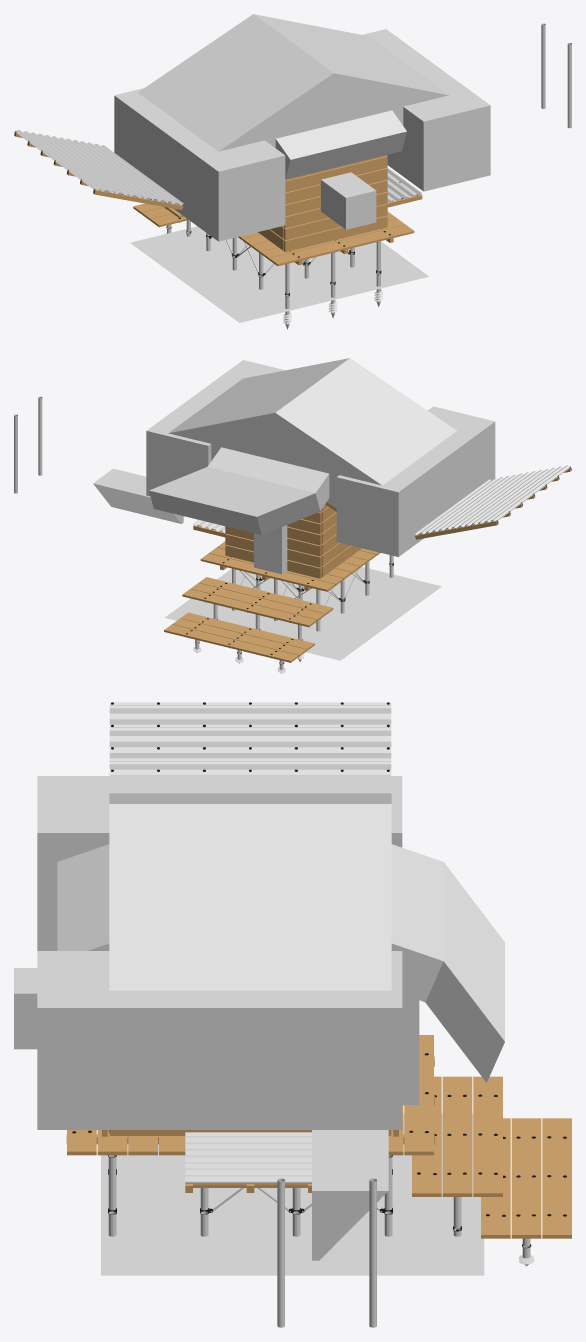
The model's file is lamatwofinal.fbx.
The picture shows the model from 3 angles, top to bottom: view 1: azimuth 30°, elevation 25°; view 2: azimuth 150°, elevation 25°; view 3: azimuth 270°, elevation 25°; orthographic projection. The views are drawn at different scales.
Parts seen in each view (by area): view 1: Cube.001, Cube.006, floor, Cube, sideplanks.001, screws.005, Cube.003, floorboards, screw pile, Circle.006, Plane.001, floorboards.002; view 2: Cube.001, Cube.006, Cube, floor, screws.005, floorboards.002, floorboards.001, sideplanks.001, floorboards, Cube.004, Cube.003, sideplanks (+3 smaller); view 3: Cube.006, Cube.001, floor, Cube, screws.005, floorboards.002, floorboards.001, Cube.004, Plane.001, floorboards, Cube.003, Circle.006 (+2 smaller).
Part boxes in pixels (<box>): Cube.001: <box>138,14,448,151</box>; Cube.006: <box>114,29,490,241</box>; floor: <box>130,226,428,322</box>; Cube: <box>275,110,406,179</box>; sideplanks.001: <box>283,154,387,252</box>; screws.005: <box>14,129,183,209</box>; Cube.003: <box>320,172,376,229</box>; floorboards: <box>238,211,414,266</box>; screw pile: <box>206,233,382,329</box>; Circle.006: <box>541,23,571,128</box>; Plane.001: <box>387,167,421,203</box>; floorboards.002: <box>133,203,186,227</box>; Cube.001: <box>168,358,456,508</box>; Cube.006: <box>146,360,495,556</box>; Cube: <box>149,447,329,534</box>; floor: <box>164,567,441,660</box>; screws.005: <box>414,465,571,539</box>; floorboards.002: <box>164,612,314,662</box>; floorboards.001: <box>182,577,333,627</box>; sideplanks.001: <box>225,510,321,578</box>; floorboards: <box>200,541,380,591</box>; Cube.004: <box>93,468,183,523</box>; Cube.003: <box>254,525,287,574</box>; sideplanks: <box>321,504,361,577</box>; Cube.006: <box>37,776,402,1129</box>; Cube.001: <box>109,793,391,990</box>; floor: <box>101,1113,484,1275</box>; Cube: <box>57,844,504,1082</box>; screws.005: <box>109,702,391,775</box>; floorboards.002: <box>481,1118,571,1238</box>; floorboards.001: <box>412,1076,502,1196</box>; Cube.004: <box>312,1130,388,1260</box>; Plane.001: <box>185,1132,311,1183</box>; floorboards: <box>67,1035,433,1155</box>; Cube.003: <box>14,968,419,1104</box>; Circle.006: <box>277,1178,376,1327</box>.
Bounding box in the file's own units: 13859 × 6194 × 7277.
